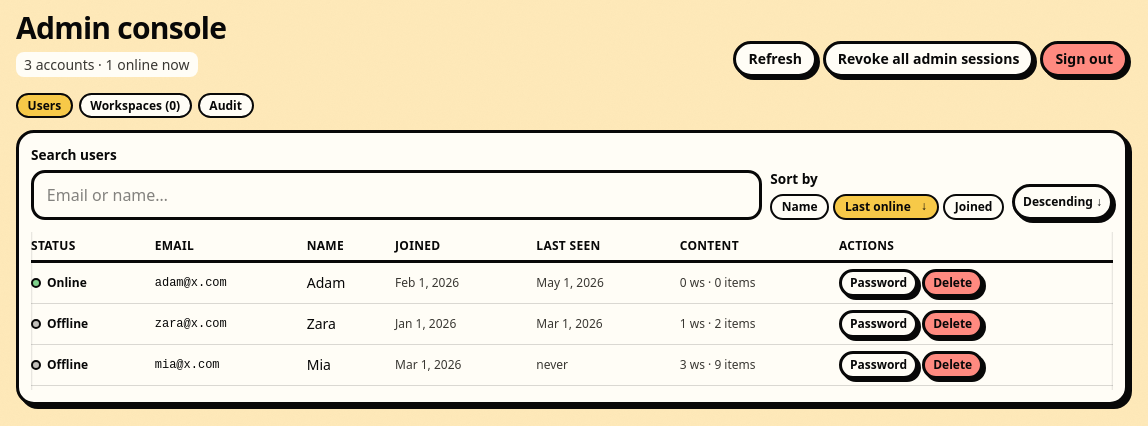
Test: admin user table › explains an empty result instead of showing a blank table
This screenshot has width=1148, height=426.
Type "nobody" into the search field labelled "Search users" at [397, 195], box [31,170,762,220]
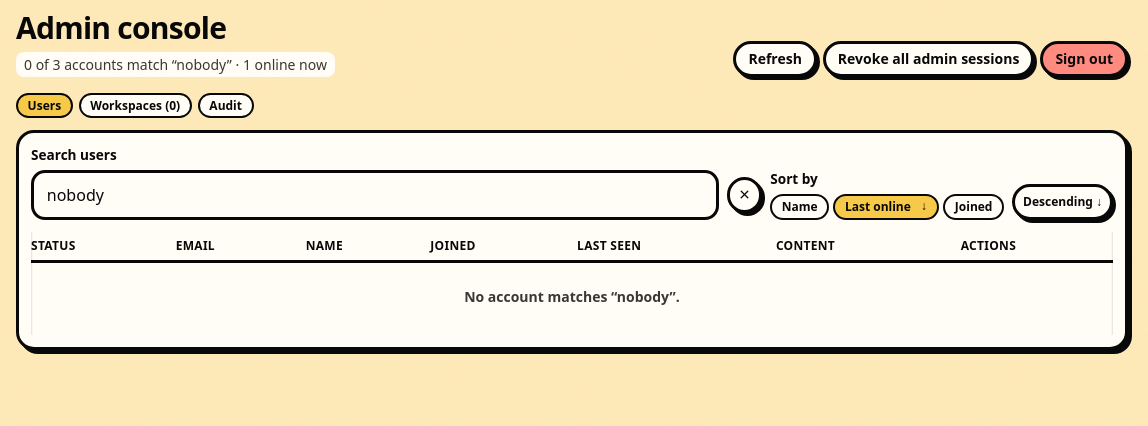
Check: the text "No account matches “nobody”." is shown, box [464,287,680,306]
